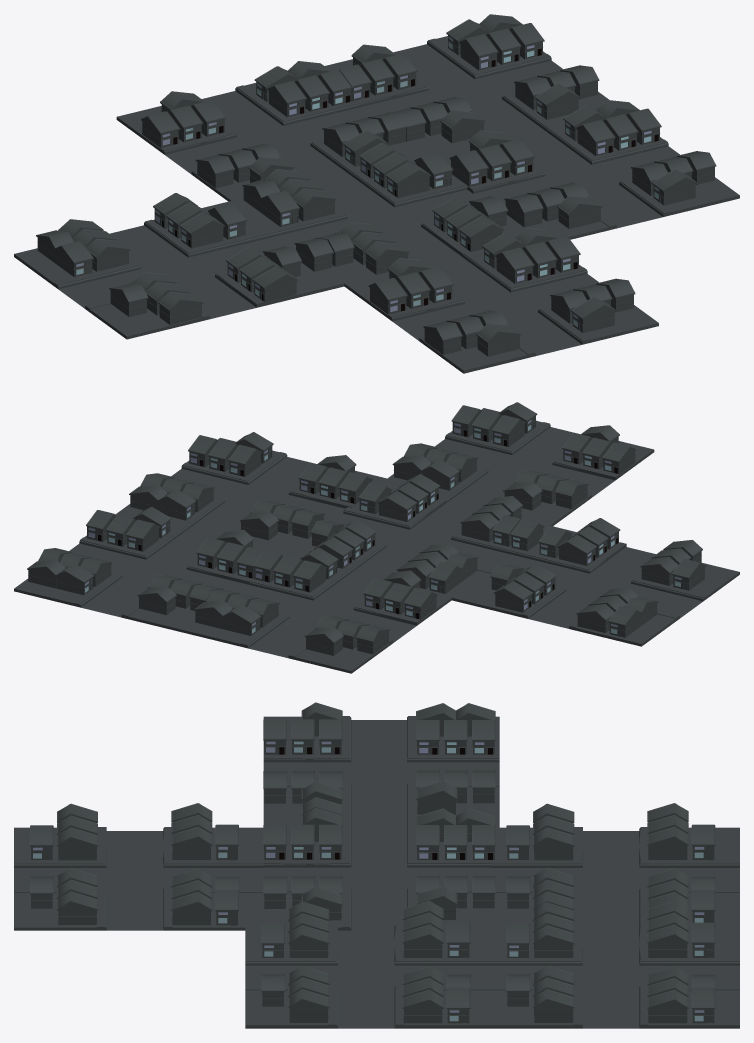
Rendered from Streetview3.fbx.
The picture shows the model from 3 angles, top to bottom: view 1: azimuth 30°, elevation 25°; view 2: azimuth 150°, elevation 25°; view 3: azimuth 270°, elevation 25°; orthographic projection. The views are drawn at different scales.
Visible parts, largest first — view 1: directionalLight3, directionalLight4, directionalLight7, directionalLight2, directionalLight5, directionalLight6, polySurface14; view 2: directionalLight3, directionalLight5, directionalLight6, directionalLight4, directionalLight7, directionalLight2, polySurface14; view 3: directionalLight6, directionalLight4, directionalLight7, directionalLight3, directionalLight5, directionalLight2.
Boxes of the visible parts, box(x1,y1,x2,y2) form: directionalLight3: box(14, 193, 332, 339); directionalLight4: box(344, 227, 658, 373); directionalLight7: box(441, 100, 739, 239); directionalLight2: box(220, 142, 528, 288); directionalLight5: box(116, 61, 427, 201); directionalLight6: box(325, 14, 608, 154); polySurface14: box(294, 238, 333, 271); directionalLight3: box(461, 518, 739, 646); directionalLight5: box(181, 547, 451, 673); directionalLight6: box(14, 507, 284, 632); directionalLight4: box(380, 402, 654, 526); directionalLight7: box(116, 432, 386, 553); directionalLight2: box(282, 474, 558, 602); polySurface14: box(510, 519, 544, 551); directionalLight6: box(490, 901, 739, 1028); directionalLight4: box(14, 803, 263, 930); directionalLight7: box(245, 901, 494, 1028); directionalLight3: box(263, 702, 499, 825); directionalLight5: box(490, 803, 739, 930); directionalLight2: box(263, 808, 499, 930).
Size of the model in its own units: 78.49 by 3.3 by 78.03.
